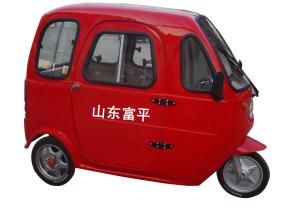tricycle: (18, 6, 275, 199)
